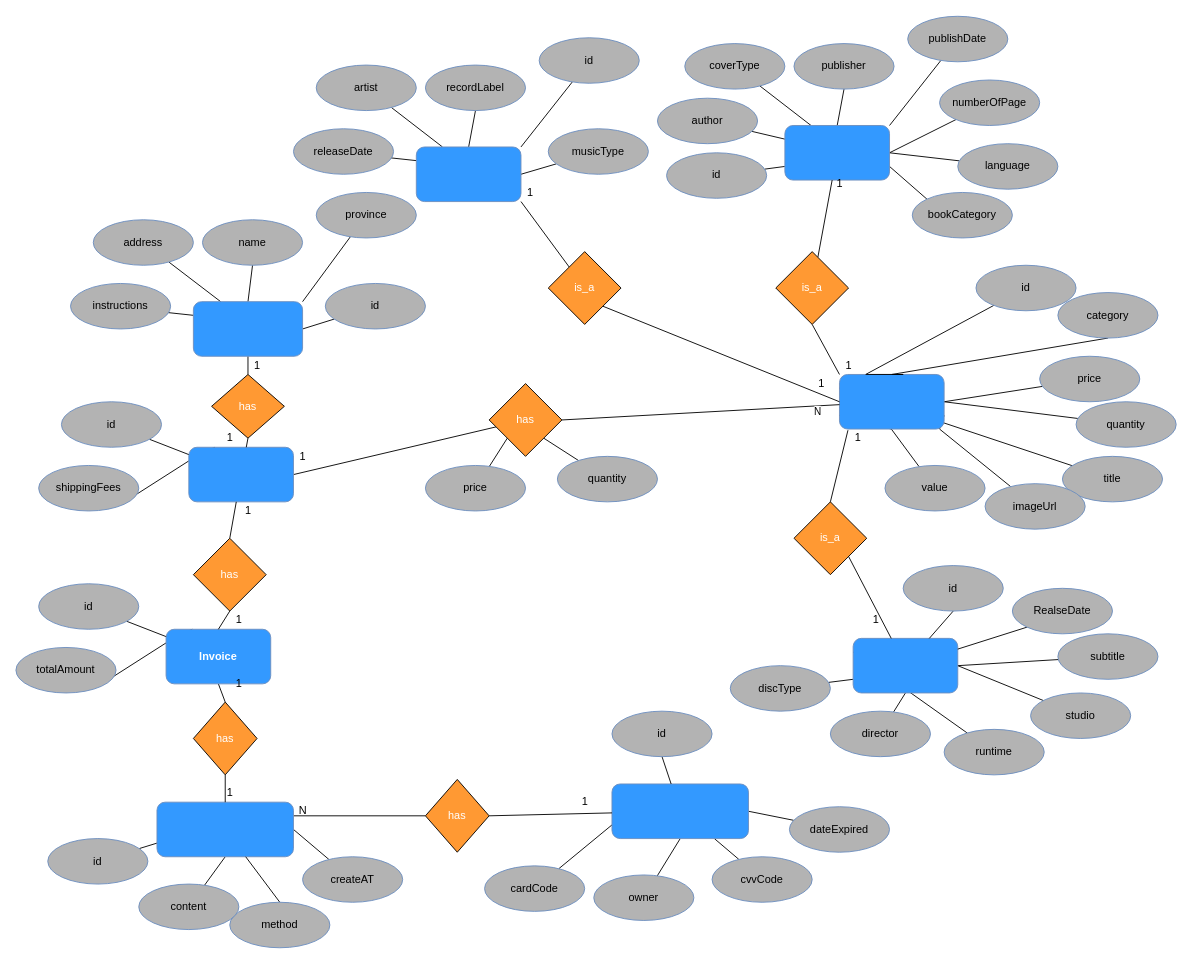
The diagram is 1192 pixels wide and 964 high, and some of its shapes have lost their labels. Here are the shapes that lost their labels. From the top down, the centre of each, then its label:
At [837,152]: "Book".
At [468,174]: "CD".
At [247,328]: "DeliveryInfo".
At [891,401]: "Media".
At [240,474]: "RushOrder".
At [905,665]: "DVD".
At [224,829]: "PaymentTransaction".
At [679,811]: "Card".
